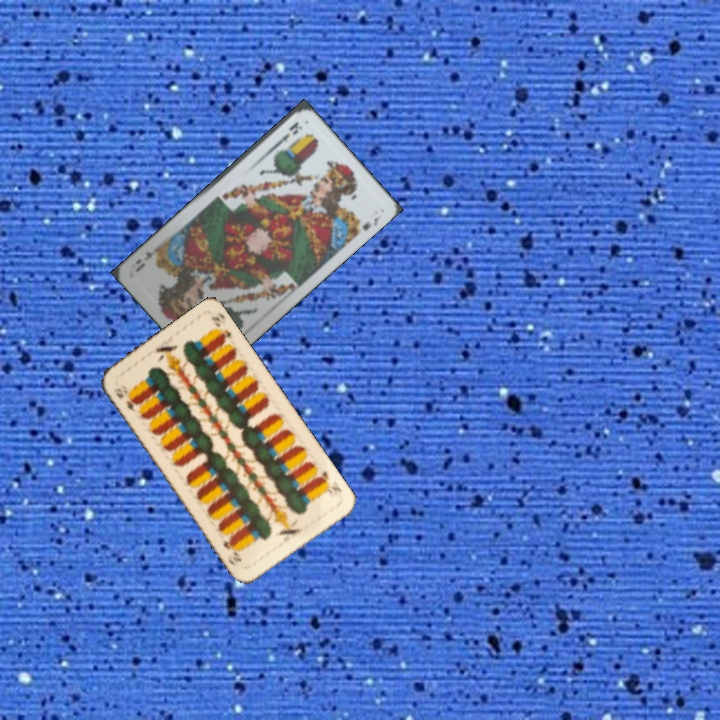E10: (110, 384, 140, 415), (314, 467, 345, 496)
EK: (271, 117, 305, 150)
